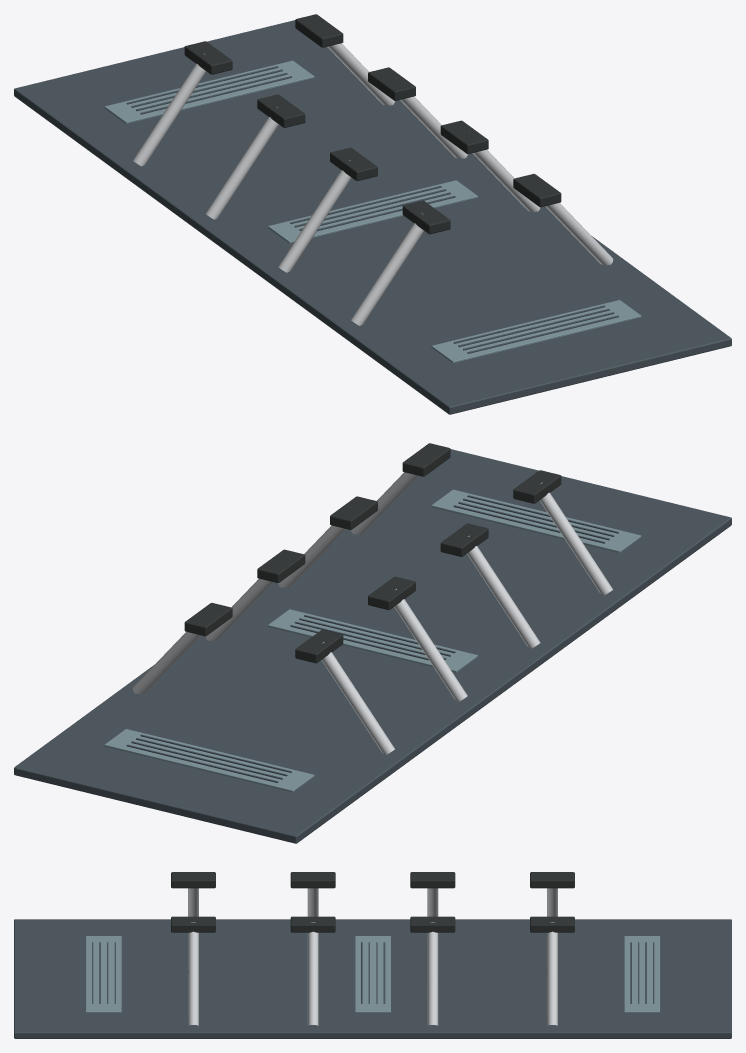
The picture shows the model from 3 angles, top to bottom: view 1: azimuth 30°, elevation 25°; view 2: azimuth 150°, elevation 25°; view 3: azimuth 270°, elevation 25°; orthographic projection. The views are drawn at different scales.
Parts seen in each view (by area): view 1: dry-dock-cradle; view 2: dry-dock-cradle; view 3: dry-dock-cradle.
Part boxes in pixels (bbox=[...]): dry-dock-cradle: bbox=[14, 14, 731, 414]; dry-dock-cradle: bbox=[14, 443, 731, 843]; dry-dock-cradle: bbox=[14, 872, 731, 1038].
Size of the model in its own units: 9 by 3.11 by 24.
